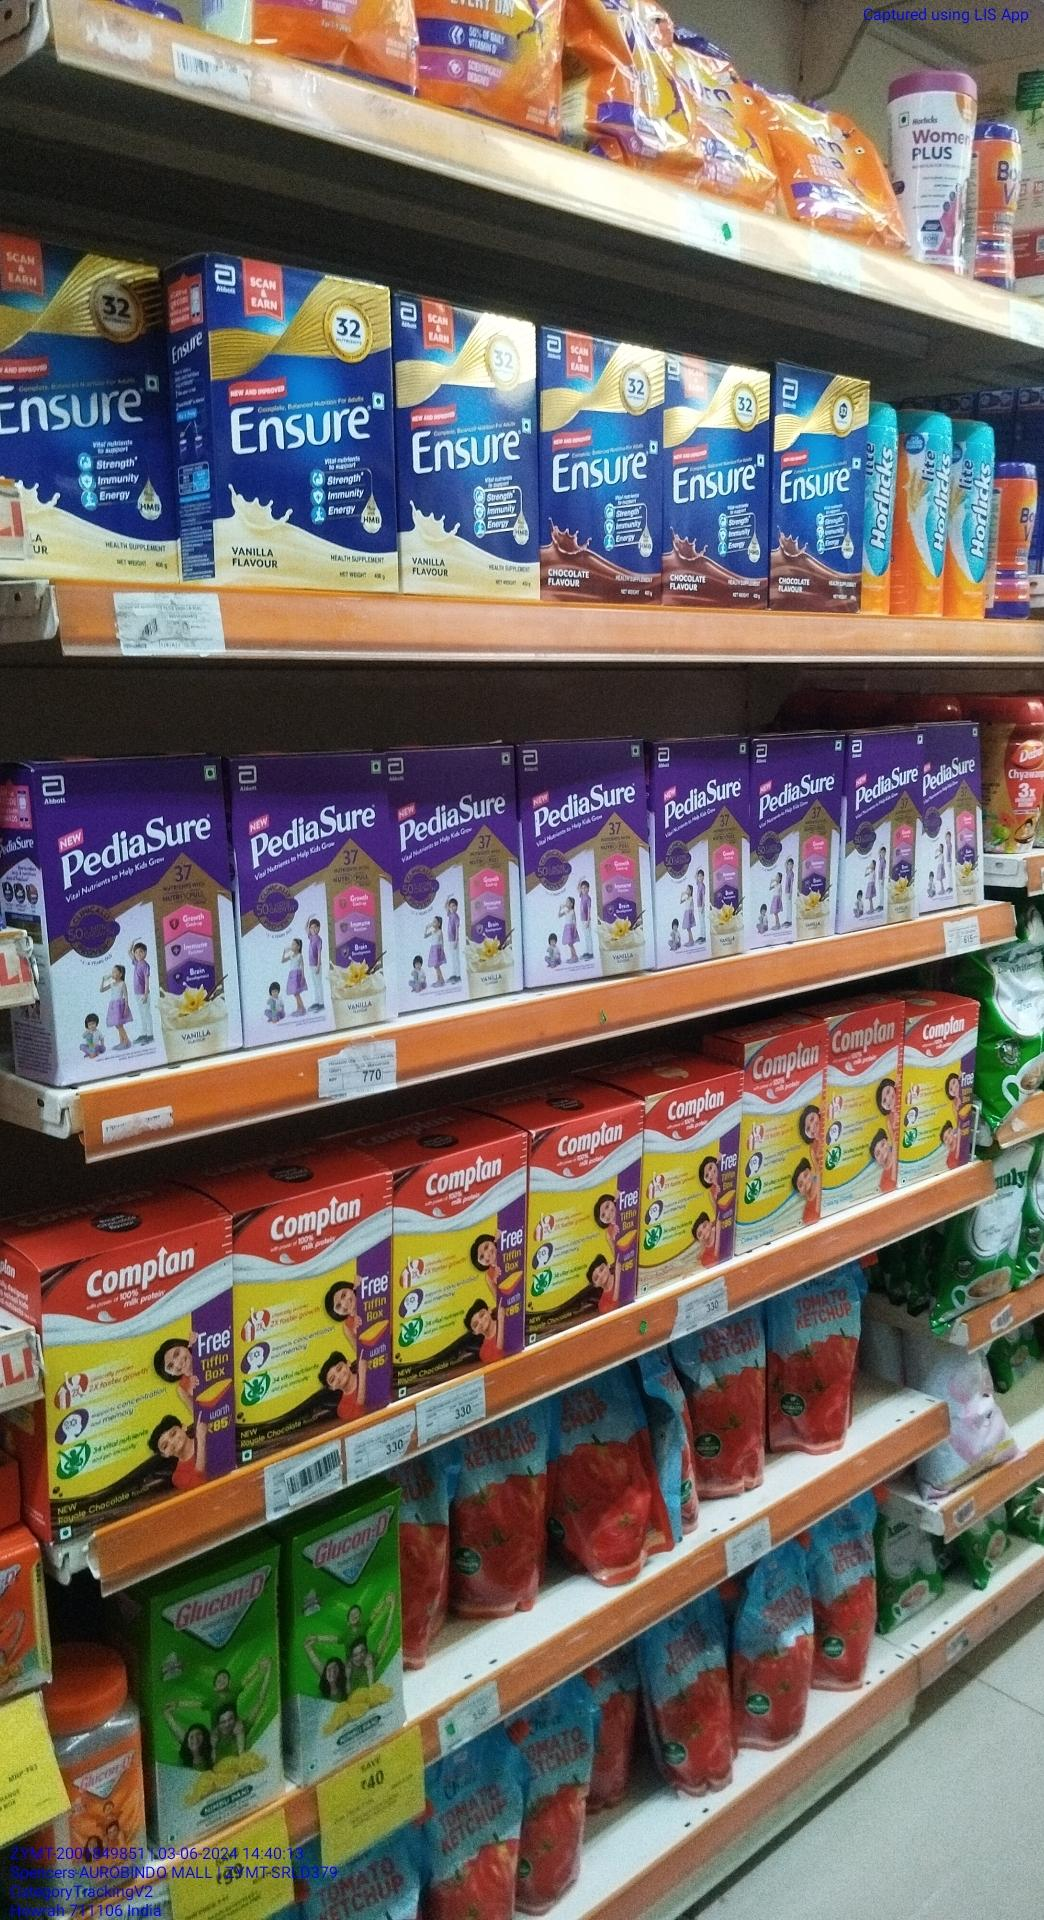COMPLAN_KESAR_BADAM_500_GMS_PACK: (644, 1094, 733, 1275)
ENSURE_VANILLA_400_G_PACK: (210, 258, 402, 589), (405, 298, 541, 592)
PEDIASURE_VANILLA_500_G_PACK: (37, 763, 228, 1058), (239, 756, 386, 1035), (519, 740, 649, 975), (393, 752, 518, 995), (658, 743, 747, 951), (748, 738, 838, 939), (918, 720, 990, 905), (849, 735, 915, 925)
